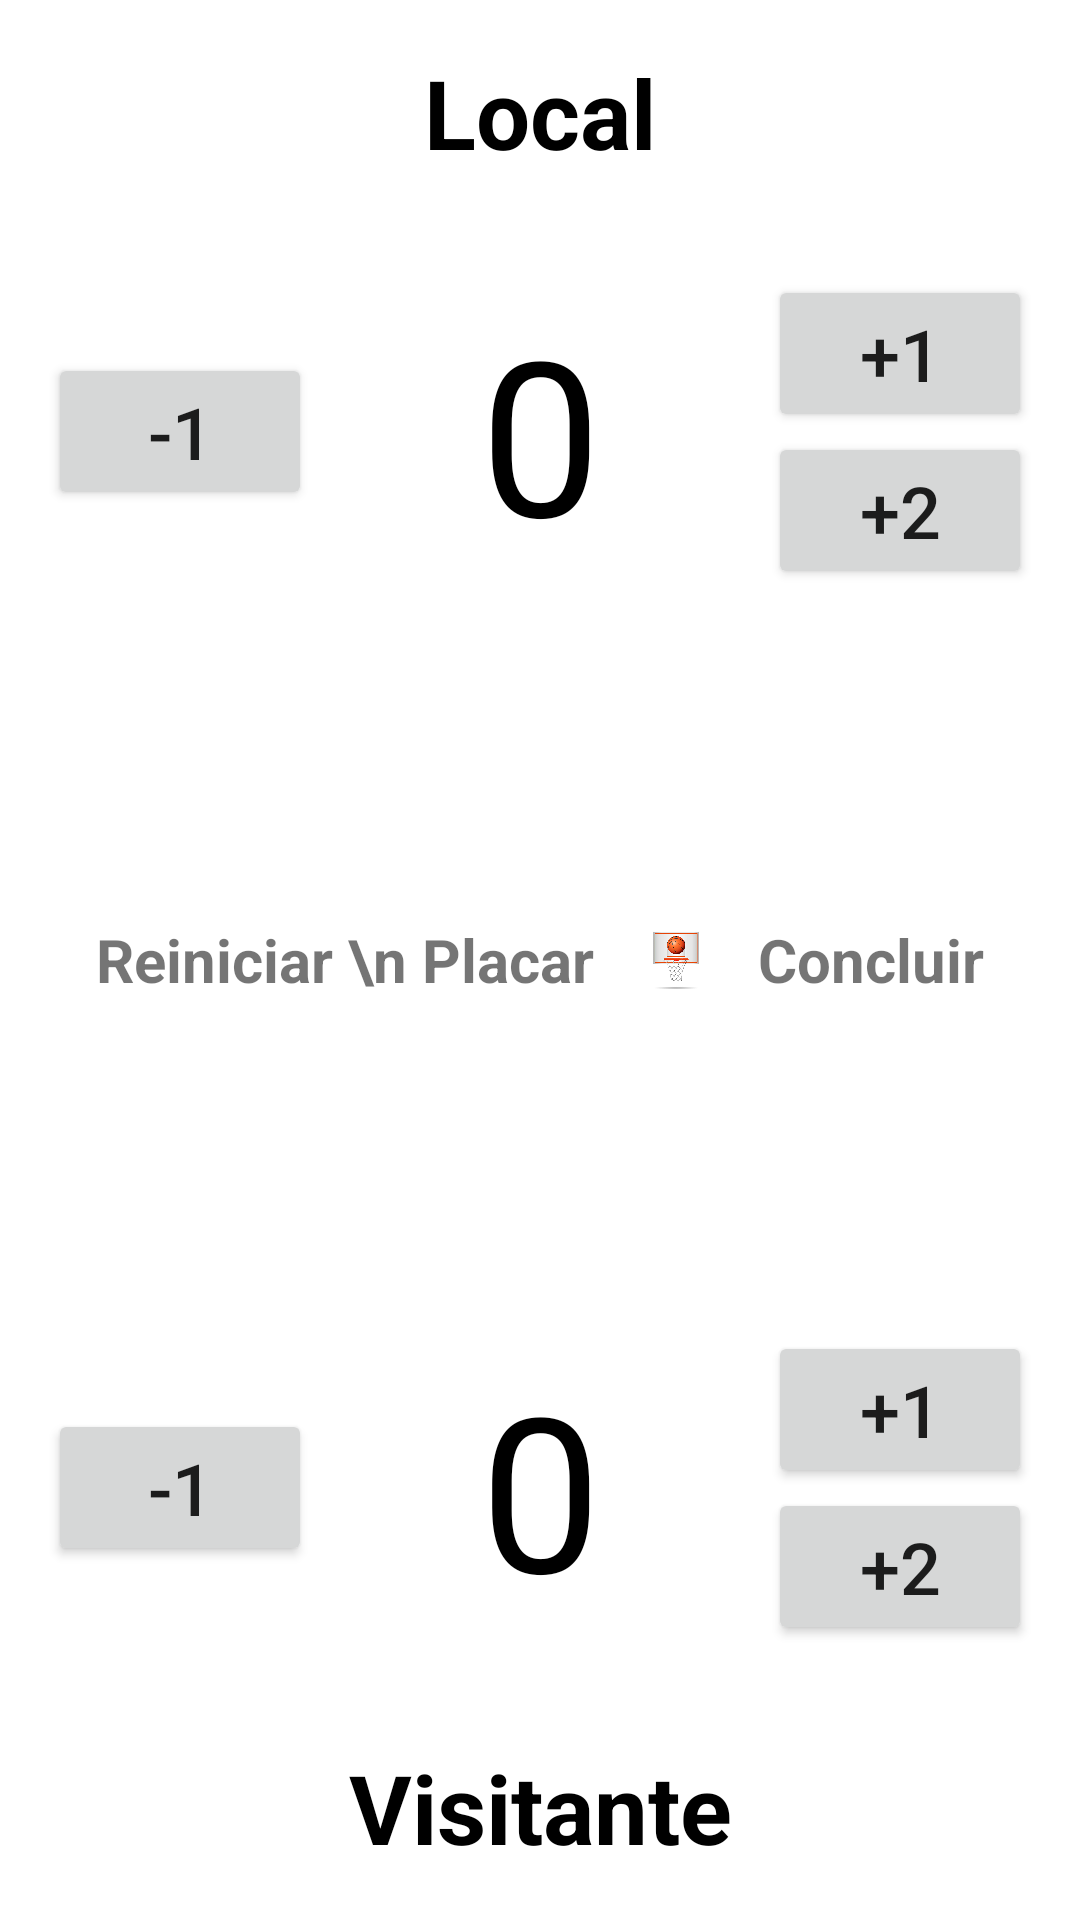

Locate icon controls on the screen. Image size 1080x1920, boxes as (x1,y1,x2,y2).
bolabasquete: (653,932,699,989)
